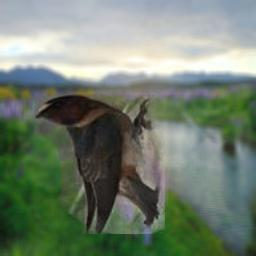Swallow: (35, 94, 165, 234)
